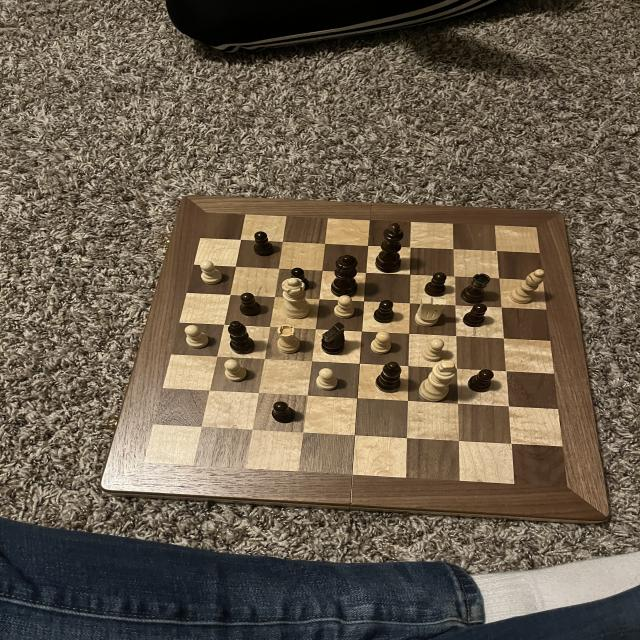bishop: (372, 361, 406, 396), (226, 319, 258, 356)
black-bishop: (372, 221, 407, 274)
black-king: (319, 322, 350, 358)
black-knight: (465, 368, 496, 394), (461, 302, 492, 328), (252, 229, 278, 259), (423, 270, 450, 298), (372, 298, 398, 325), (238, 291, 262, 318), (270, 400, 296, 424), (289, 264, 313, 290)
black-pawn: (330, 254, 363, 297)
black-queen: (458, 273, 491, 305)
black-rook: (507, 268, 549, 305)
white-bishop: (415, 358, 460, 403)
white-king: (411, 295, 449, 329)
white-knight: (368, 330, 396, 355), (183, 324, 209, 350), (419, 337, 446, 362), (222, 358, 248, 382), (196, 259, 221, 283), (315, 368, 341, 391), (332, 295, 358, 318)
white-pawn: (280, 276, 313, 322)
white-queen: (274, 323, 303, 356)
